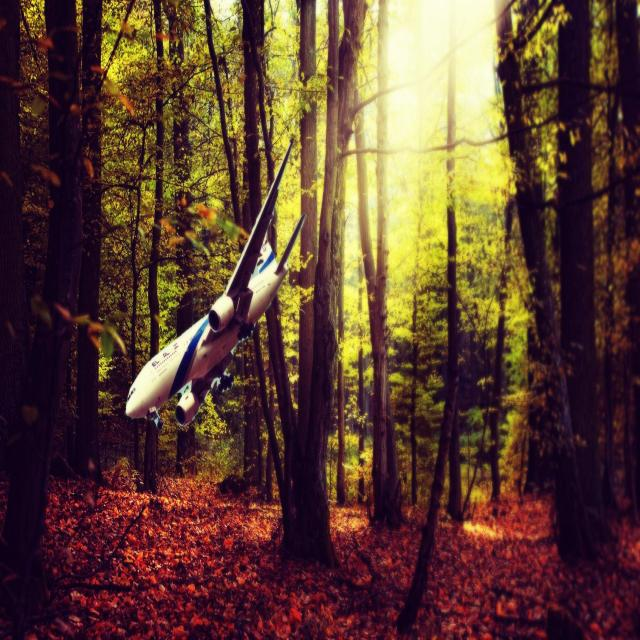airplane: (124, 136, 307, 431)
